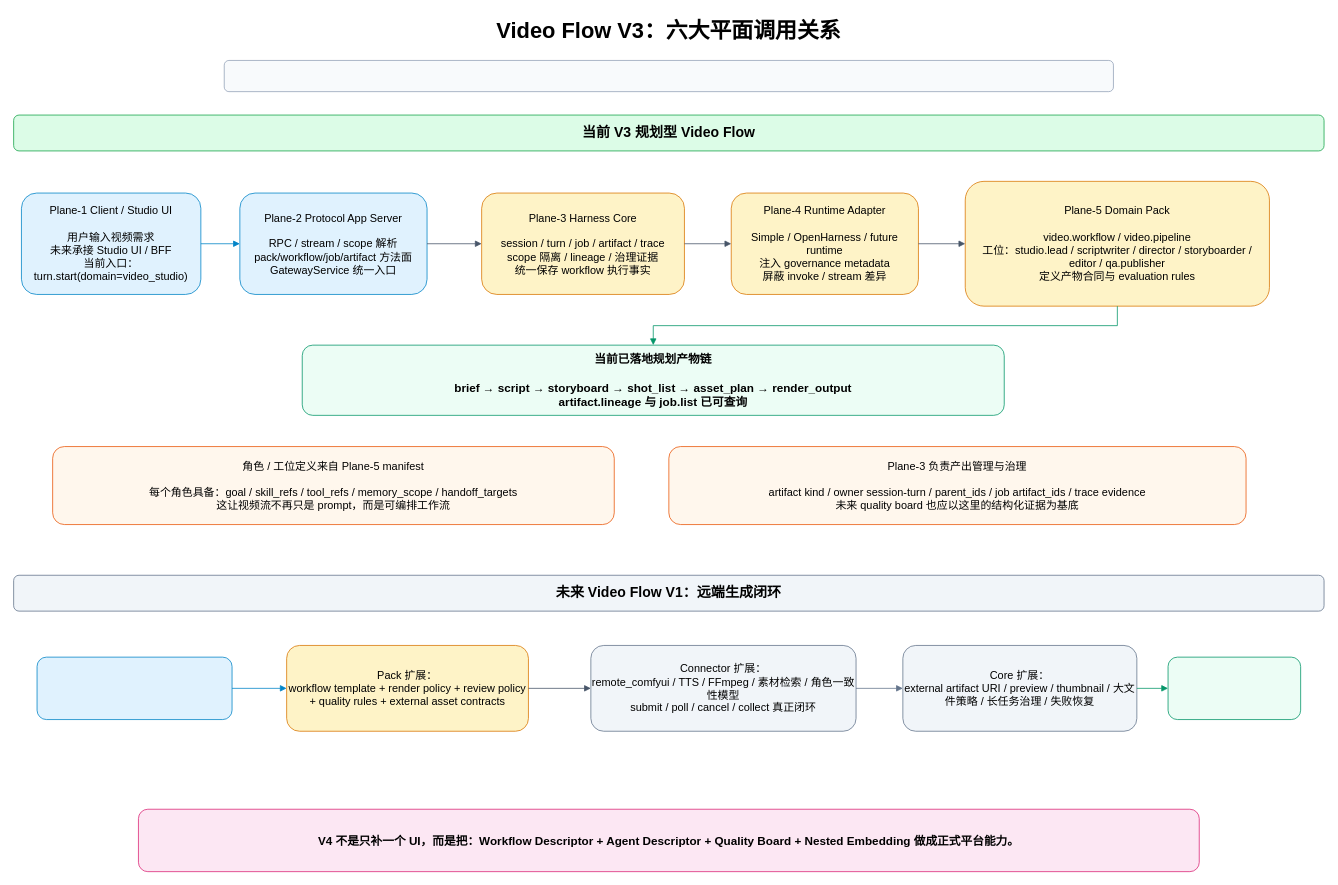
Some shapes in this 1338 by 885 pixel diagram are drawn without their labels. The centre of each missing label's shape, as x and y in pixels:
"蓝色：入口 / 协议；黄色：Core / Runtime / Pack / Connector；绿色：已具备规划链路；灰色：V1 远端生成待补" goes at (x=668, y=76).
"输入：文生视频需求 / 长剧情 / 多角色 / 多镜头约束" goes at (x=134, y=688).
"输出： render_output URIs / publish_report / quality board / 可追踪 lineage" goes at (x=1234, y=688).
